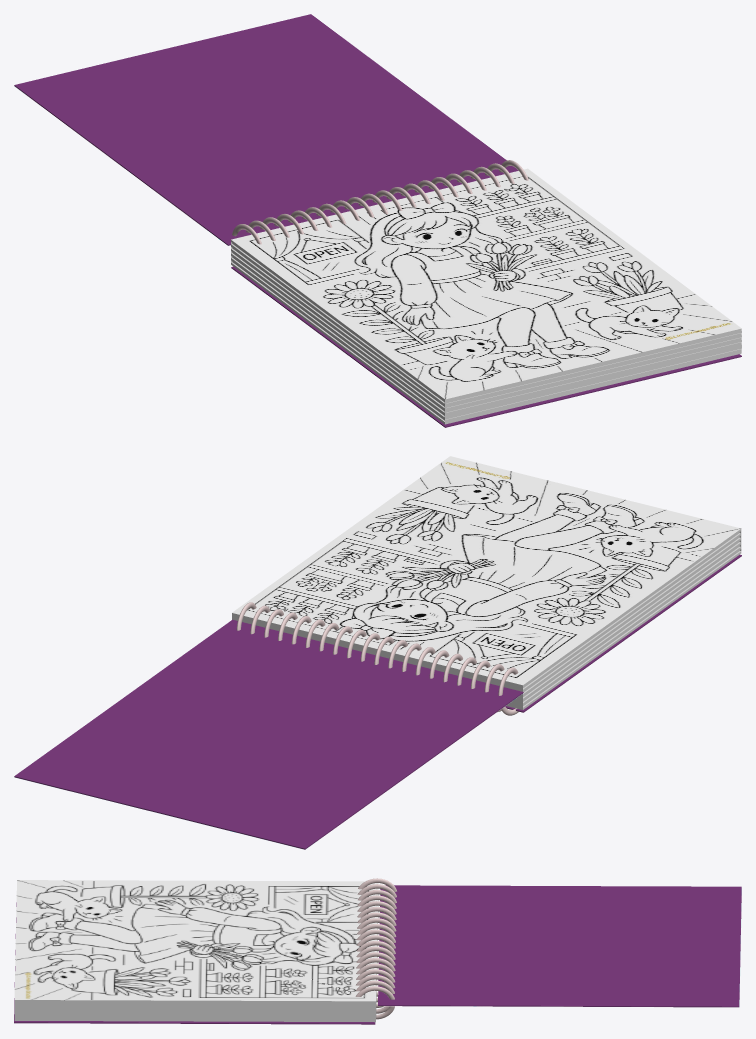
The model's file is Coloringbook.glb.
3 views of the same model, one above another, from view 1: azimuth 30°, elevation 25°; view 2: azimuth 150°, elevation 25°; view 3: azimuth 270°, elevation 25° (orthographic). The views are drawn at different scales.
Visible parts, largest first — view 1: Colouring for kids 855, Cube.002, Cube.001, Circle, Cube; view 2: Cube.002, Colouring for kids 855, Cube.001, Circle, Cube; view 3: Cube.002, Colouring for kids 855, Cube.001, Circle, Cube.
Boxes of the visible parts, bbox=[...] form: Colouring for kids 855: bbox=[231, 168, 741, 399]; Cube.002: bbox=[14, 14, 518, 245]; Cube.001: bbox=[231, 240, 741, 424]; Circle: bbox=[232, 160, 528, 244]; Cube: bbox=[231, 266, 741, 427]; Cube.002: bbox=[14, 619, 523, 849]; Colouring for kids 855: bbox=[232, 456, 740, 685]; Cube.001: bbox=[232, 529, 741, 709]; Circle: bbox=[236, 602, 518, 715]; Cube: bbox=[505, 554, 741, 712]; Cube.002: bbox=[378, 885, 741, 1007]; Colouring for kids 855: bbox=[14, 880, 378, 1001]; Cube.001: bbox=[14, 894, 378, 1022]; Circle: bbox=[355, 878, 396, 1019]; Cube: bbox=[14, 902, 375, 1024].
Bounding box in the file's own units: 1.17 × 0.161 × 2.96.
8 materials, 3 textured.
